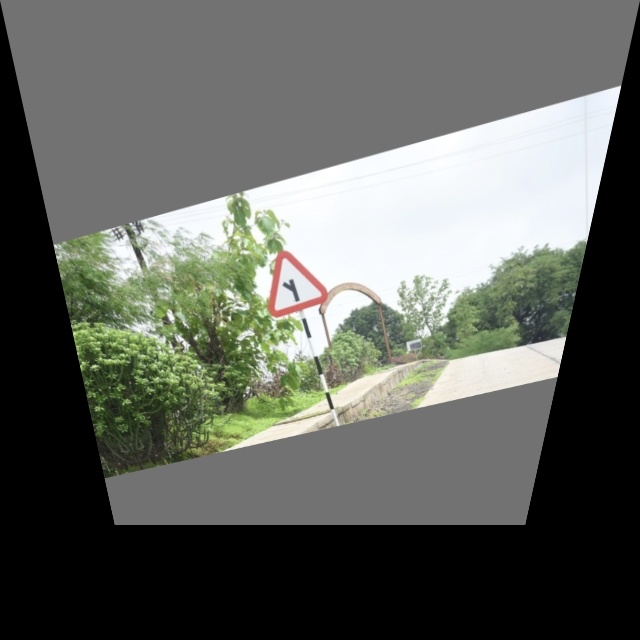Y_Intersection: (250, 232, 330, 319)
